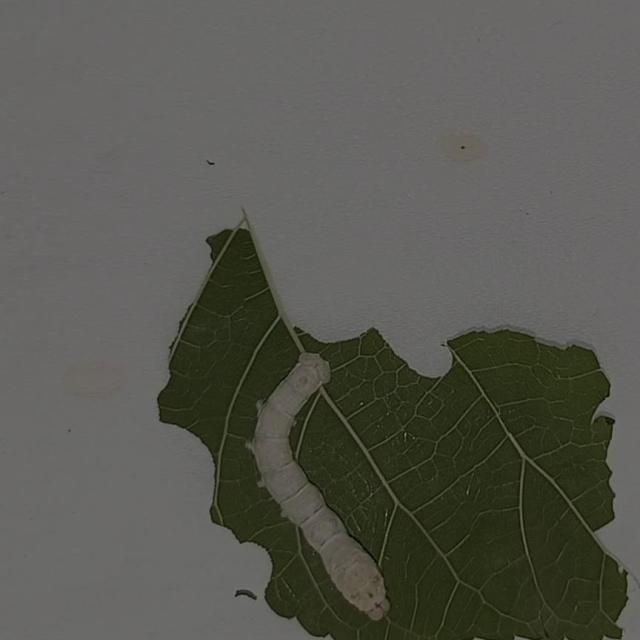Healthy: (239, 337, 415, 631)
